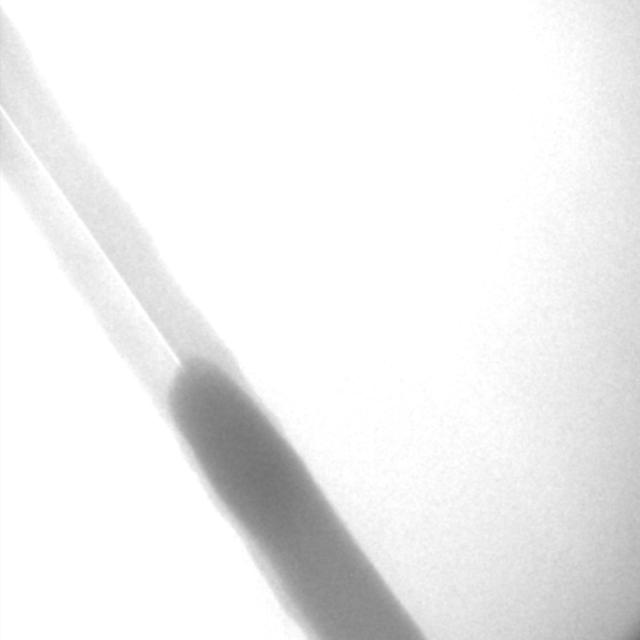broken arc: (1, 108, 182, 369)
